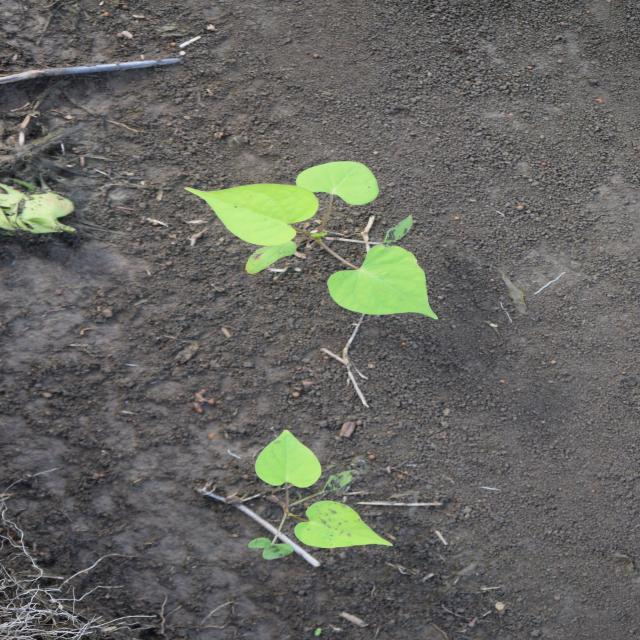MorningGlory: (178, 159, 444, 323), (245, 427, 398, 562)
